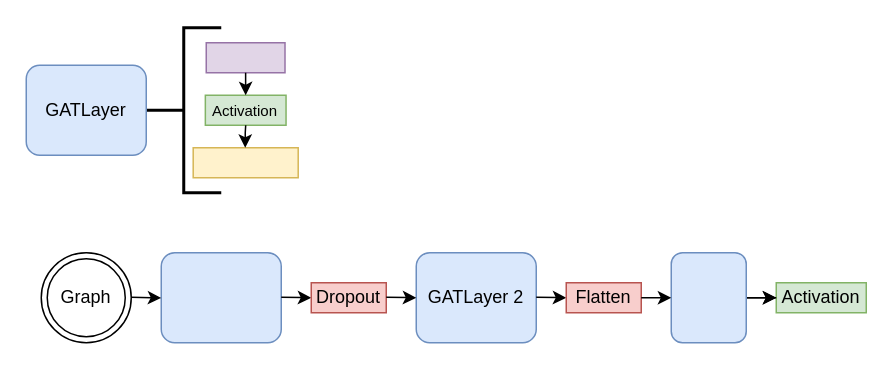
The diagram is 893 pixels wide and 369 high, and some of its shapes have lost their labels. Each missing label, with the centre of its shape:
GATCovn: pixel 245 57
GATLayer 1: pixel 220 297
Normalization: pixel 245 162
Single Layer NN: pixel 708 297
